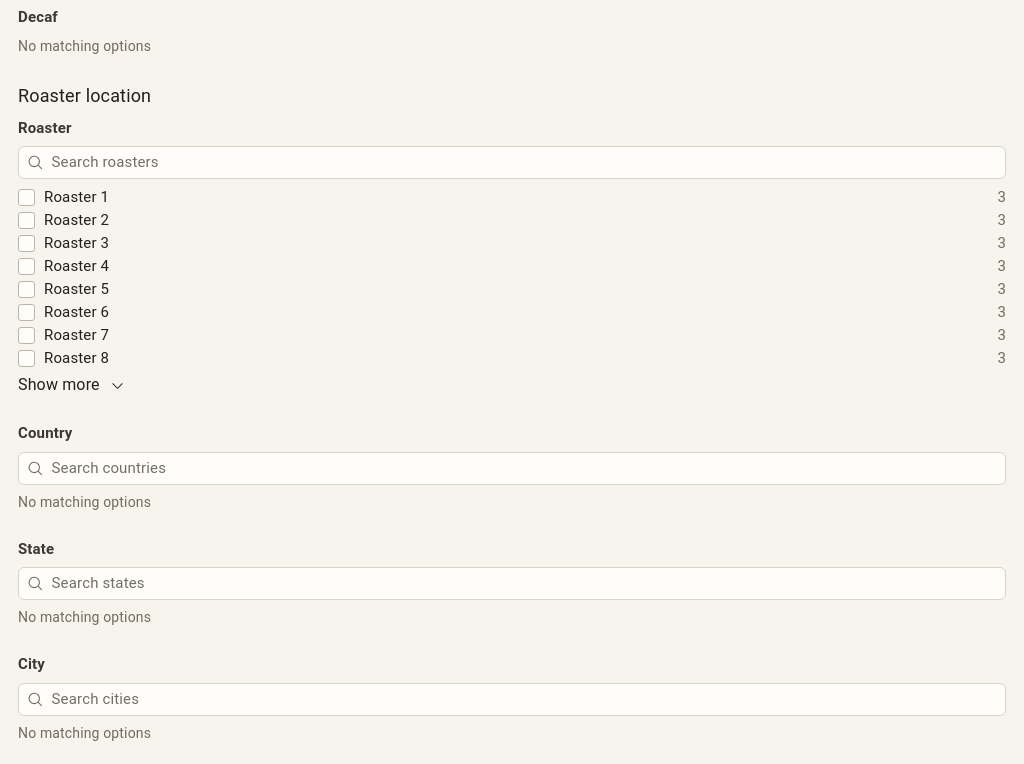
it: facet browsing › expands, paginates, searches remote options and retains selected options
(page scrolled)
Expected: the checkbox labelled "Roaster 1 3" is shown, left=18, top=189, right=35, bottom=206
Click the button "Show more": (71, 384) left=18, top=370, right=125, bottom=397
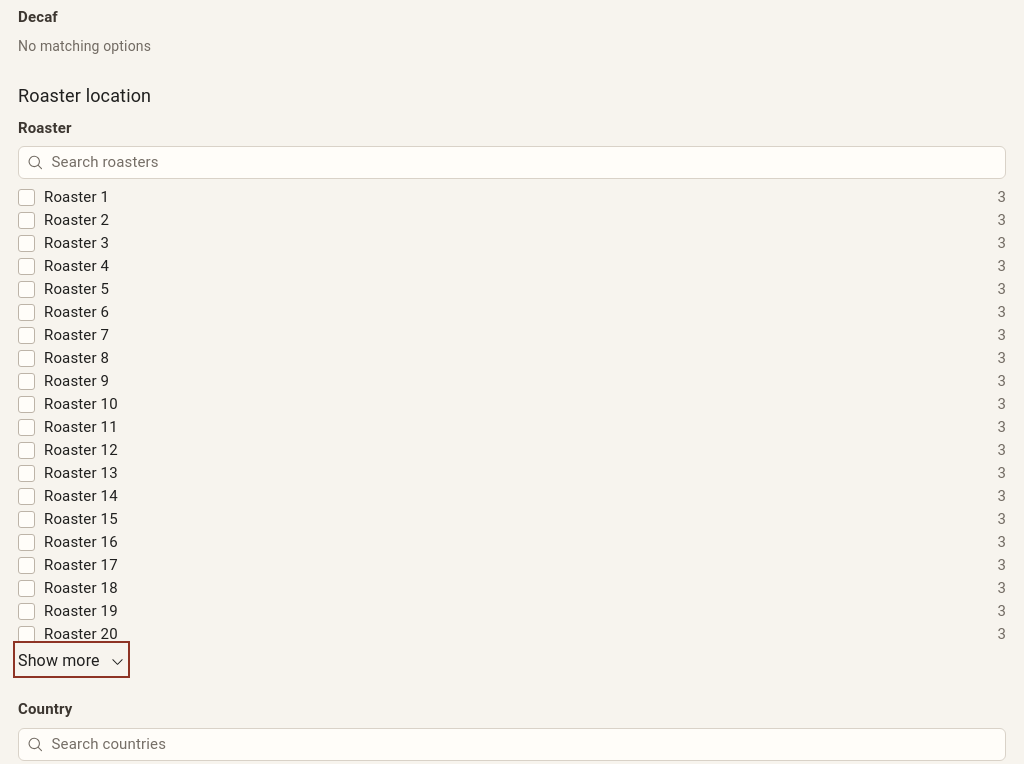
Expected: the number of checkboxes is 20
Click the button "Show more": (71, 660) left=18, top=646, right=125, bottom=673
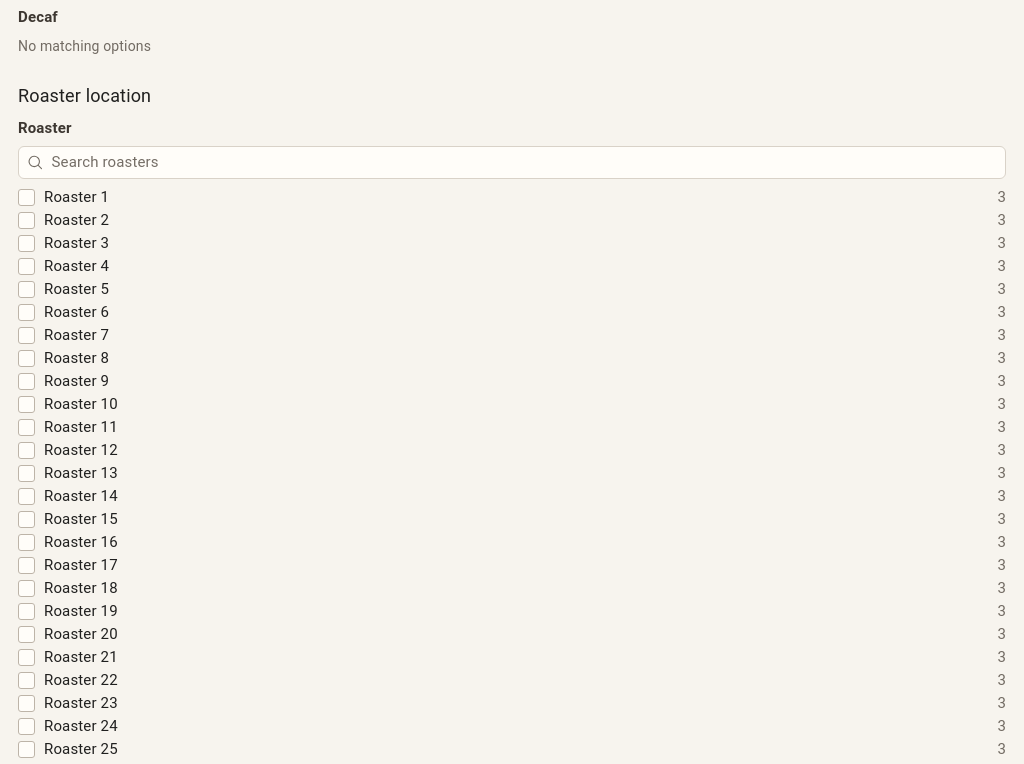
In the field: (524, 163) left=52, top=151, right=997, bottom=174, type "absent"
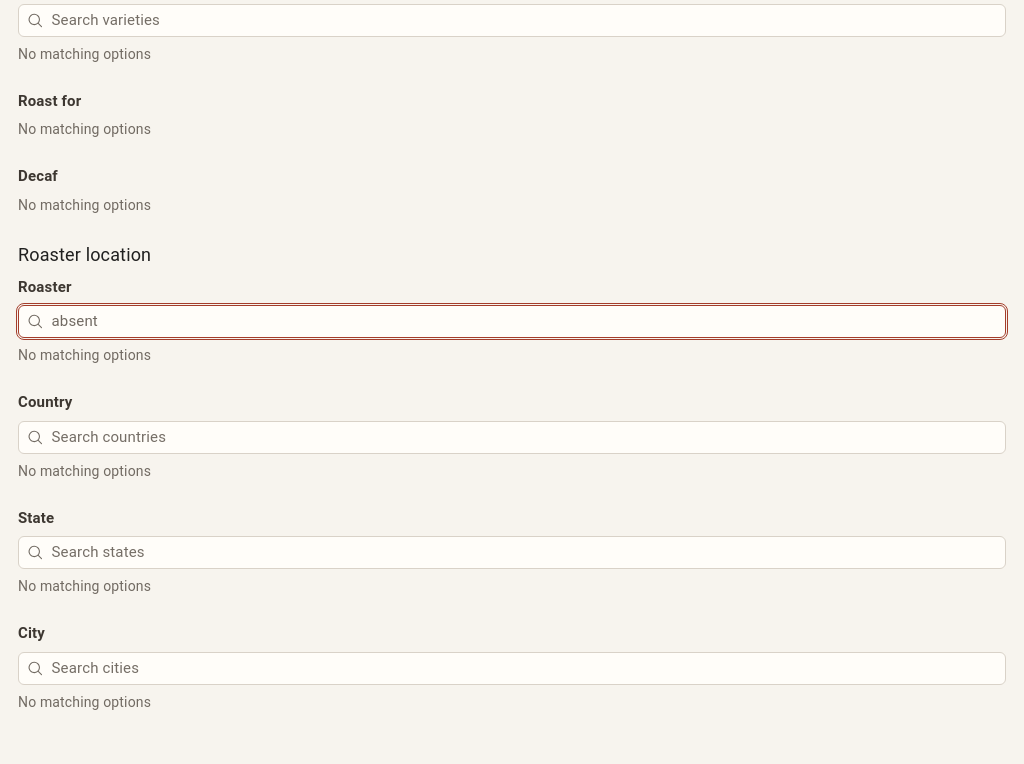
Expected: no checkboxes are shown
Expected: the text "No matching options" below "Roaster location" is shown, left=18, top=347, right=151, bottom=363
